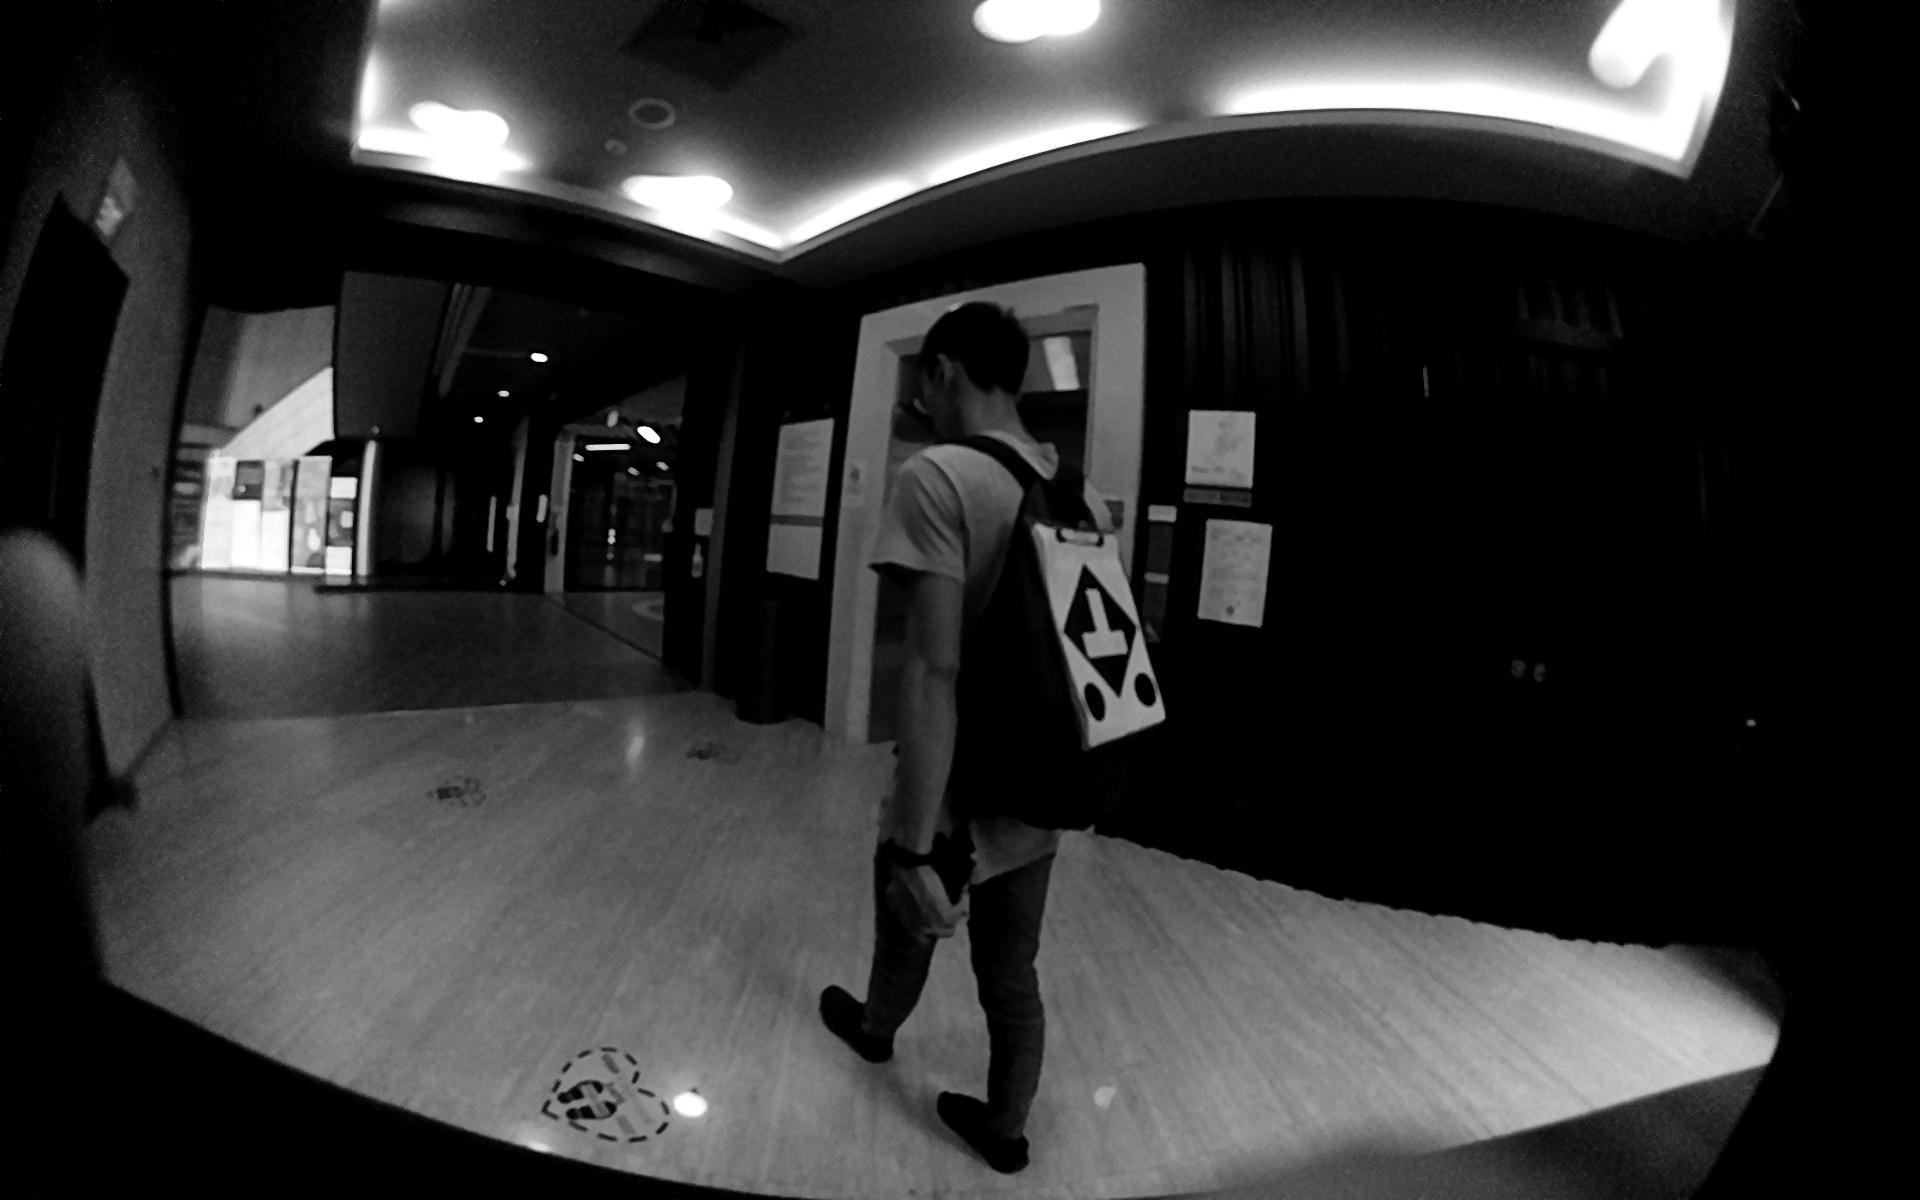continue_forward: (1041, 549, 1164, 730)
